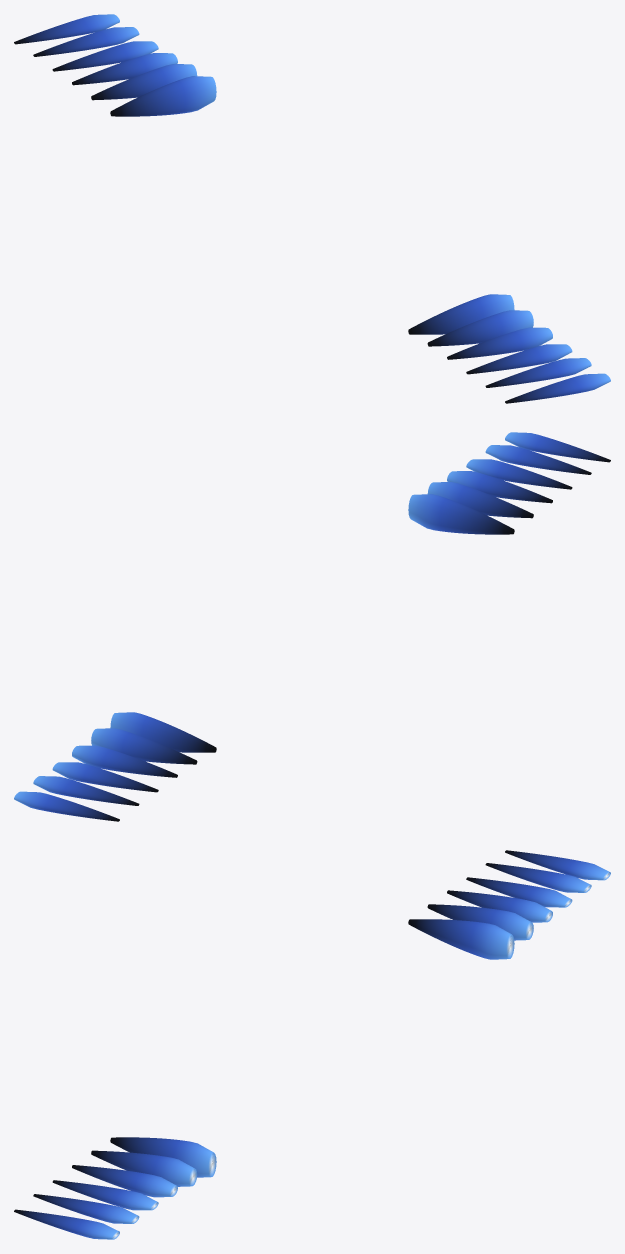
The model's file is plume_ion_nodiamond.glb.
3 views of the same model, one above another, from view 1: azimuth 30°, elevation 25°; view 2: azimuth 150°, elevation 25°; view 3: azimuth 330°, elevation 25° (orthographic).
Visible parts, largest first — view 1: Plume_IonBank_0_L, Plume_IonBank_0_R, Plume_IonBank_1_R, Plume_IonBank_1_L, Plume_IonBank_2_R, Plume_IonBank_2_L, Plume_IonBank_3_R, Plume_IonBank_3_L, Plume_IonBank_4_L, Plume_IonBank_4_R, Plume_IonBank_5_R, Plume_IonBank_5_L; view 2: Plume_IonBank_0_R, Plume_IonBank_0_L, Plume_IonBank_1_L, Plume_IonBank_1_R, Plume_IonBank_2_L, Plume_IonBank_2_R, Plume_IonBank_3_L, Plume_IonBank_3_R, Plume_IonBank_4_R, Plume_IonBank_4_L, Plume_IonBank_5_L, Plume_IonBank_5_R; view 3: Plume_IonBank_0_L, Plume_IonBank_0_R, Plume_IonBank_1_R, Plume_IonBank_1_L, Plume_IonBank_2_R, Plume_IonBank_2_L, Plume_IonBank_3_R, Plume_IonBank_3_L, Plume_IonBank_4_R, Plume_IonBank_4_L, Plume_IonBank_5_R, Plume_IonBank_5_L.
Part boxes in pixels (x1,y1,x2,y2): Plume_IonBank_0_L: [110, 76, 216, 116]; Plume_IonBank_0_R: [408, 294, 514, 334]; Plume_IonBank_1_R: [427, 310, 533, 346]; Plume_IonBank_1_L: [91, 64, 197, 100]; Plume_IonBank_2_R: [447, 327, 552, 359]; Plume_IonBank_2_L: [72, 53, 177, 85]; Plume_IonBank_3_R: [466, 344, 572, 374]; Plume_IonBank_3_L: [52, 41, 158, 71]; Plume_IonBank_4_L: [33, 27, 139, 56]; Plume_IonBank_4_R: [485, 358, 591, 387]; Plume_IonBank_5_R: [505, 373, 610, 403]; Plume_IonBank_5_L: [14, 14, 119, 44]; Plume_IonBank_0_R: [408, 494, 514, 534]; Plume_IonBank_0_L: [110, 712, 216, 752]; Plume_IonBank_1_L: [91, 728, 197, 764]; Plume_IonBank_1_R: [427, 482, 533, 518]; Plume_IonBank_2_L: [72, 745, 177, 777]; Plume_IonBank_2_R: [447, 471, 552, 503]; Plume_IonBank_3_L: [52, 762, 158, 792]; Plume_IonBank_3_R: [466, 459, 572, 489]; Plume_IonBank_4_R: [485, 445, 591, 474]; Plume_IonBank_4_L: [33, 776, 139, 805]; Plume_IonBank_5_L: [14, 791, 119, 821]; Plume_IonBank_5_R: [505, 432, 610, 462]; Plume_IonBank_0_L: [408, 919, 514, 959]; Plume_IonBank_0_R: [110, 1137, 216, 1177]; Plume_IonBank_1_R: [91, 1150, 197, 1186]; Plume_IonBank_1_L: [427, 904, 533, 940]; Plume_IonBank_2_R: [72, 1165, 177, 1197]; Plume_IonBank_2_L: [447, 890, 552, 922]; Plume_IonBank_3_R: [52, 1180, 158, 1210]; Plume_IonBank_3_L: [466, 877, 572, 907]; Plume_IonBank_4_R: [33, 1194, 139, 1223]; Plume_IonBank_4_L: [485, 863, 591, 892]; Plume_IonBank_5_R: [14, 1209, 119, 1239]; Plume_IonBank_5_L: [505, 850, 610, 880].
Size of what is drawn, in the model's own units: 0.989 by 0.3134 by 8.53.
Materials: 1 (1 with a texture image).
